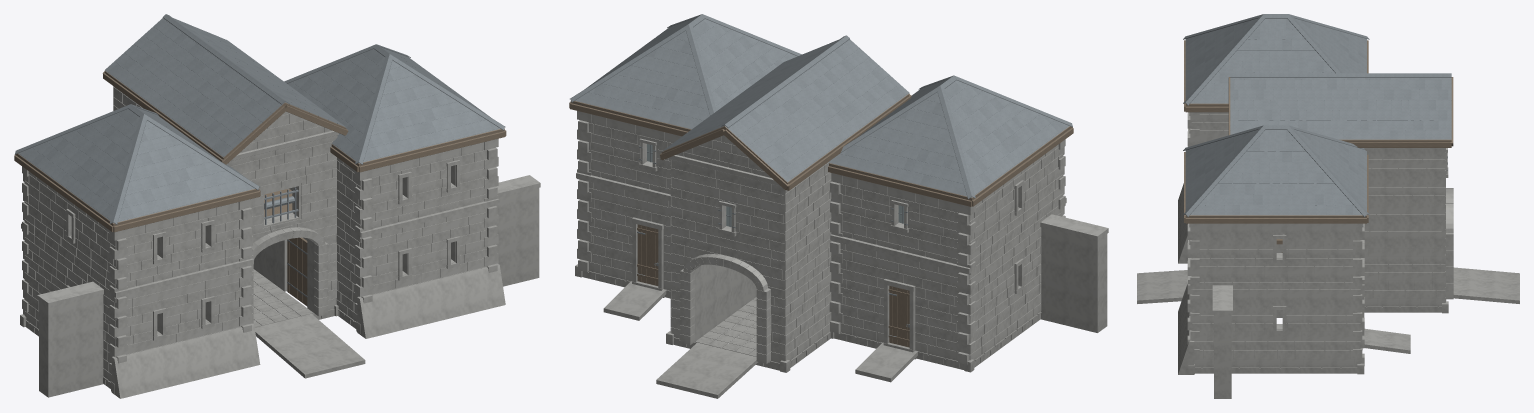
The model's file is gatehouse.glb.
3 renders of one model, left to right at view 1: azimuth 30°, elevation 25°; view 2: azimuth 150°, elevation 25°; view 3: azimuth 270°, elevation 25°, orthographic. The views are drawn at different scales.
Visible parts, largest first — view 1: world_thornfell.gatehouse_west_watchtower.facade_masonry_ski, world_thornfell.gatehouse_east_watchtower.facade_masonry_ski, world_thornfell.gatehouse_portal.Split oak shingle courses, world_thornfell.gatehouse_portal.facade_masonry_skin, world_thornfell.gatehouse_west_watchtower.Split oak shingle , world_thornfell.gatehouse_west_watchtower.gatehouse.curtain_, world_thornfell.gatehouse_east_watchtower.Split oak shingle , world_thornfell.gatehouse_west_watchtower.gatehouse.west_bat, world_thornfell.gatehouse_east_watchtower.gatehouse.east_bat, world_thornfell.gatehouse_east_watchtower.gatehouse.curtain_, world_thornfell.gatehouse_west_watchtower.gatehouse.west_bon, world_thornfell.gatehouse_portal.gatehouse.front_threshold_r (+34 smaller); view 2: world_thornfell.gatehouse_west_watchtower.facade_masonry_ski, world_thornfell.gatehouse_portal.facade_masonry_skin, world_thornfell.gatehouse_east_watchtower.facade_masonry_ski, world_thornfell.gatehouse_portal.Split oak shingle courses, world_thornfell.gatehouse_west_watchtower.Split oak shingle , world_thornfell.gatehouse_east_watchtower.Split oak shingle , world_thornfell.gatehouse_west_watchtower.gatehouse.curtain_, world_thornfell.gatehouse_west_watchtower.gatehouse.west_bon, world_thornfell.gatehouse_portal.gatehouse.rear_threshold_ra, world_thornfell.gatehouse_portal.gatehouse.passage_cheek.eas, world_thornfell.gatehouse_portal.Seasoned shingle cohorts, world_thornfell.gatehouse_west_watchtower.Exposed shingle bu (+35 smaller); view 3: world_thornfell.gatehouse_east_watchtower.facade_masonry_ski, world_thornfell.gatehouse_portal.facade_masonry_skin, world_thornfell.gatehouse_portal.Split oak shingle courses, world_thornfell.gatehouse_east_watchtower.Split oak shingle , world_thornfell.gatehouse_west_watchtower.Split oak shingle , world_thornfell.gatehouse_east_watchtower.facade_walls, world_thornfell.gatehouse_east_watchtower.gatehouse.east_bon, world_thornfell.gatehouse_east_watchtower.Exposed shingle bu, world_thornfell.gatehouse_portal.Seasoned shingle cohorts, world_thornfell.gatehouse_east_watchtower.gatehouse.curtain_, world_thornfell.gatehouse_portal.gatehouse.rear_threshold_ra, world_thornfell.gatehouse_east_watchtower.Overlapping ridge  (+25 smaller).
Boxes of the visible parts, x1,y1,x2,y2 form: world_thornfell.gatehouse_west_watchtower.facade_masonry_ski: (24, 171, 241, 381); world_thornfell.gatehouse_east_watchtower.facade_masonry_ski: (336, 142, 486, 321); world_thornfell.gatehouse_portal.Split oak shingle courses: (105, 18, 337, 156); world_thornfell.gatehouse_portal.facade_masonry_skin: (113, 86, 337, 309); world_thornfell.gatehouse_west_watchtower.Split oak shingle : (19, 108, 246, 221); world_thornfell.gatehouse_west_watchtower.gatehouse.curtain_: (37, 281, 103, 397); world_thornfell.gatehouse_east_watchtower.Split oak shingle : (288, 48, 492, 161); world_thornfell.gatehouse_west_watchtower.gatehouse.west_bat: (111, 323, 260, 398); world_thornfell.gatehouse_east_watchtower.gatehouse.east_bat: (357, 263, 505, 338); world_thornfell.gatehouse_east_watchtower.gatehouse.curtain_: (496, 175, 540, 286); world_thornfell.gatehouse_west_watchtower.gatehouse.west_bon: (22, 166, 252, 373); world_thornfell.gatehouse_portal.gatehouse.front_threshold_r: (255, 314, 365, 378); world_thornfell.gatehouse_west_watchtower.facade_masonry_ski: (840, 144, 1062, 360); world_thornfell.gatehouse_portal.facade_masonry_skin: (670, 135, 831, 362); world_thornfell.gatehouse_east_watchtower.facade_masonry_ski: (589, 114, 681, 290); world_thornfell.gatehouse_portal.Split oak shingle courses: (663, 41, 908, 181); world_thornfell.gatehouse_west_watchtower.Split oak shingle : (829, 79, 1068, 194); world_thornfell.gatehouse_east_watchtower.Split oak shingle : (575, 18, 788, 128); world_thornfell.gatehouse_west_watchtower.gatehouse.curtain_: (1040, 214, 1108, 332); world_thornfell.gatehouse_west_watchtower.gatehouse.west_bon: (829, 139, 1065, 364); world_thornfell.gatehouse_portal.gatehouse.rear_threshold_ra: (656, 342, 758, 398); world_thornfell.gatehouse_portal.gatehouse.passage_cheek.eas: (695, 264, 756, 341); world_thornfell.gatehouse_portal.Seasoned shingle cohorts: (663, 39, 909, 179); world_thornfell.gatehouse_west_watchtower.Exposed shingle bu: (856, 80, 1053, 195); world_thornfell.gatehouse_east_watchtower.facade_masonry_ski: (1191, 223, 1361, 366); world_thornfell.gatehouse_portal.facade_masonry_skin: (1364, 148, 1445, 305); world_thornfell.gatehouse_portal.Split oak shingle courses: (1230, 77, 1451, 139); world_thornfell.gatehouse_east_watchtower.Split oak shingle : (1185, 130, 1366, 214); world_thornfell.gatehouse_west_watchtower.Split oak shingle : (1185, 18, 1366, 103); world_thornfell.gatehouse_east_watchtower.facade_walls: (1191, 223, 1360, 366); world_thornfell.gatehouse_east_watchtower.gatehouse.east_bon: (1187, 223, 1364, 365); world_thornfell.gatehouse_east_watchtower.Exposed shingle bu: (1185, 130, 1366, 214); world_thornfell.gatehouse_portal.Seasoned shingle cohorts: (1230, 77, 1451, 139); world_thornfell.gatehouse_east_watchtower.gatehouse.curtain_: (1212, 285, 1232, 398); world_thornfell.gatehouse_portal.gatehouse.rear_threshold_ra: (1453, 267, 1519, 303); world_thornfell.gatehouse_east_watchtower.Overlapping ridge : (1183, 125, 1369, 216).
Bounding box in the file's own units: 21.26 × 9.8 × 15.4.
10 materials, 8 textured.
